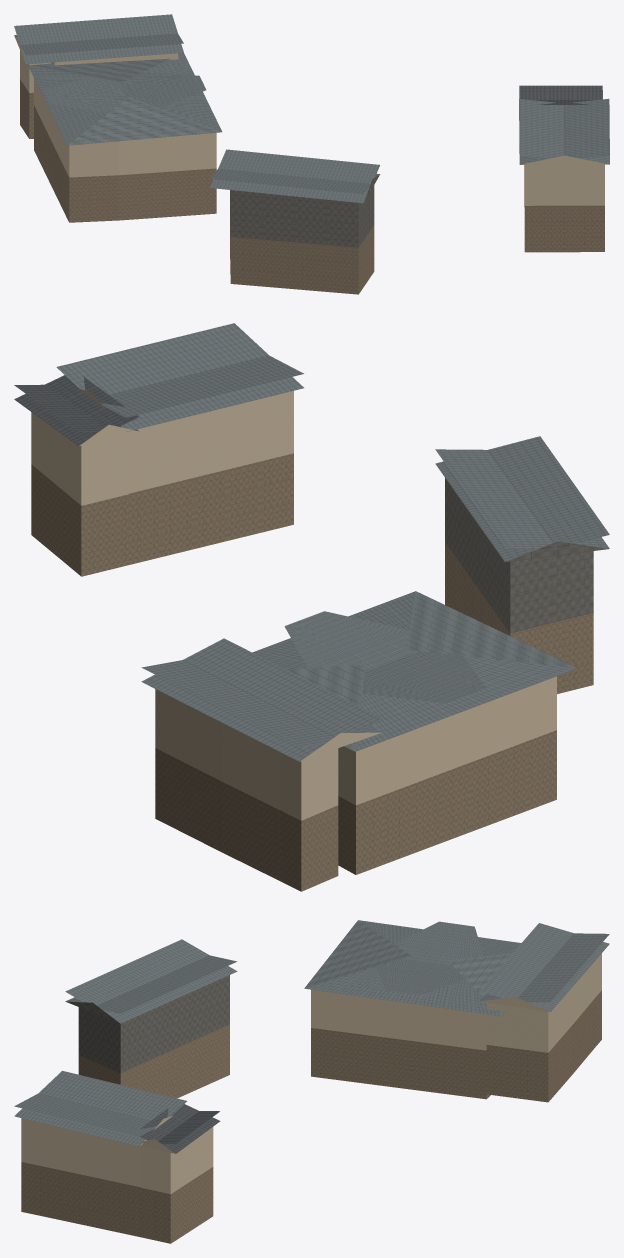
The model's file is bld_c23_45_387.gltf.
3 views of the same model, one above another, from view 1: azimuth 30°, elevation 25°; view 2: azimuth 150°, elevation 25°; view 3: azimuth 270°, elevation 25° (orthographic). The views are drawn at different scales.
Parts seen in each view (by area): view 1: bld_c23_45_387; view 2: bld_c23_45_387; view 3: bld_c23_45_387.
Boxes of the visible parts, x1,y1,x2,y2 form: bld_c23_45_387: (14, 14, 609, 294); bld_c23_45_387: (14, 323, 609, 891); bld_c23_45_387: (14, 920, 609, 1243).
Size of the model in its own units: 51.13 by 12.1 by 54.36.
7 materials, 7 textured.
